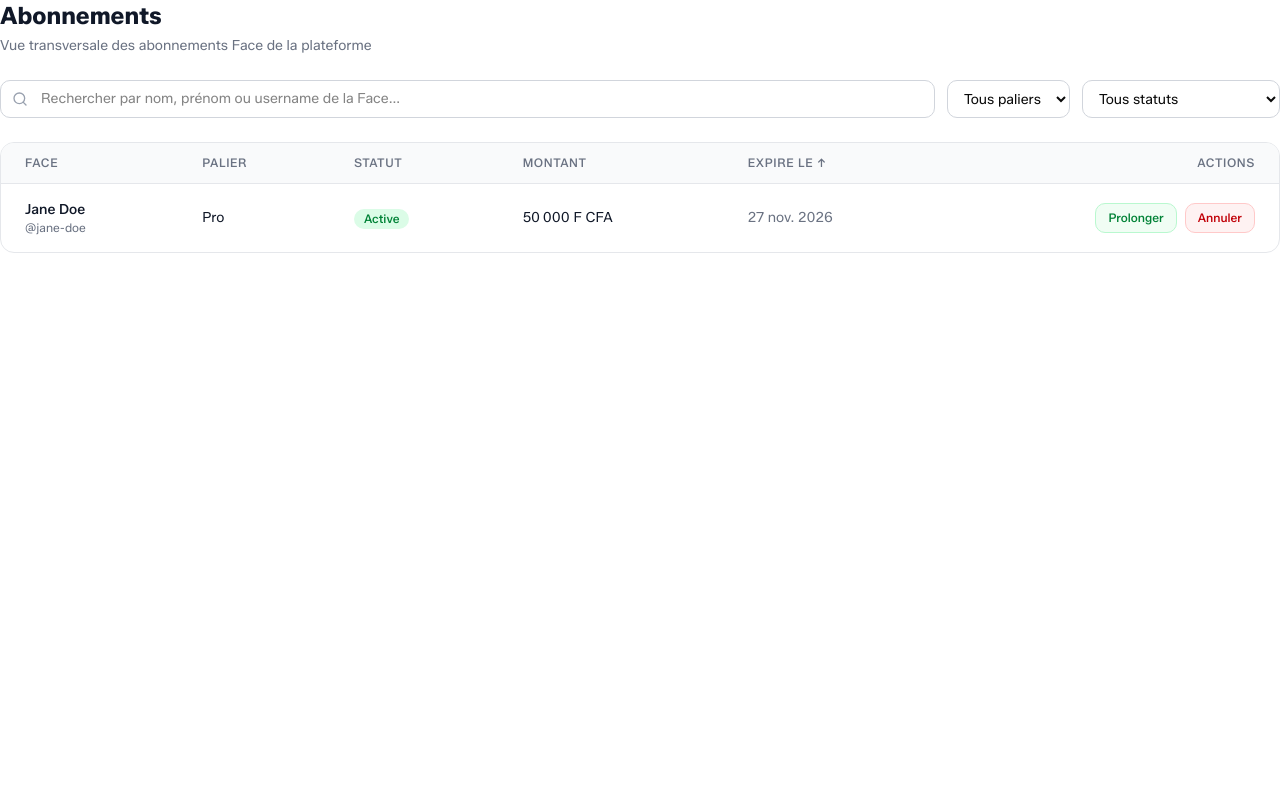
it: AdminSubscriptionsListPage › modale Prolonger : conflit 409 → message affiché, modale ouverte
This screenshot has width=1280, height=800.
Click the button with test id "extend-button" at (1136, 218), box [1095,203,1177,233]
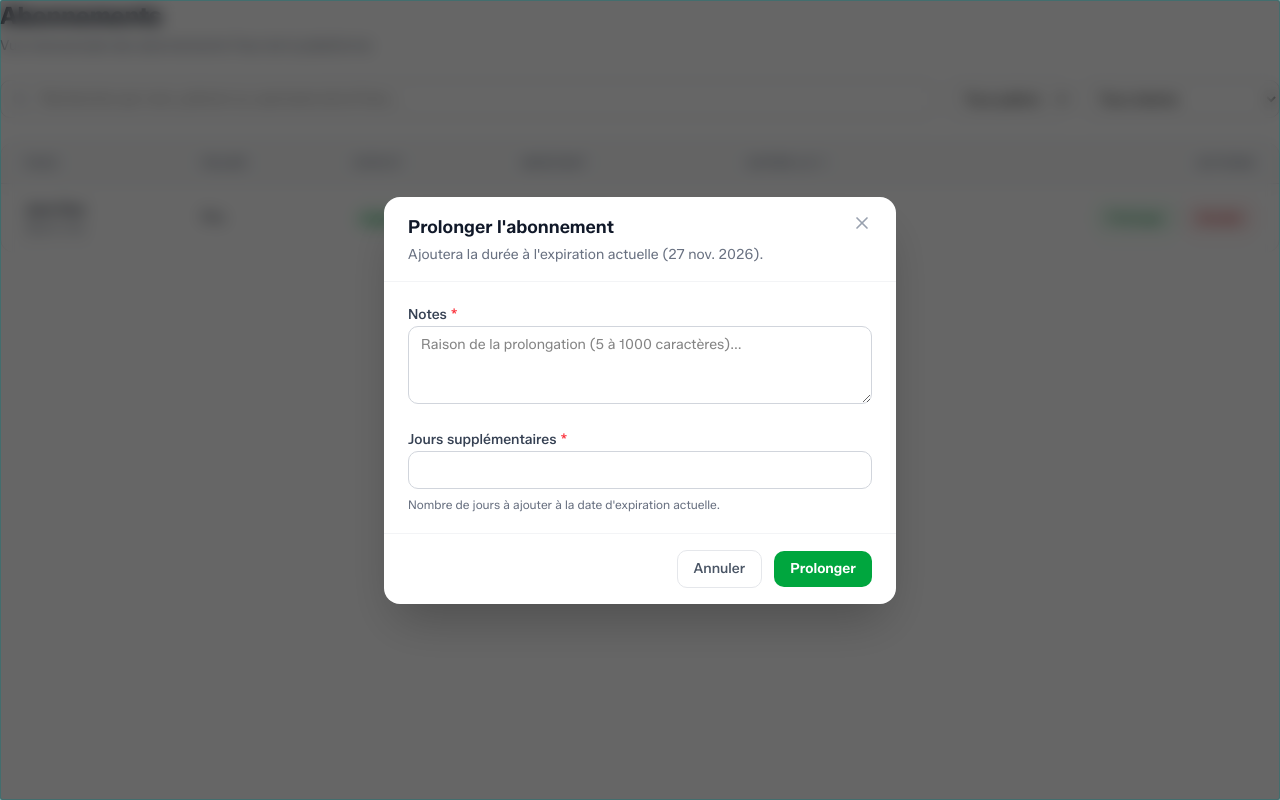
Type "Prolongation impossible" into the text box with test id "extend-notes" at (640, 364), box [408,326,872,404]
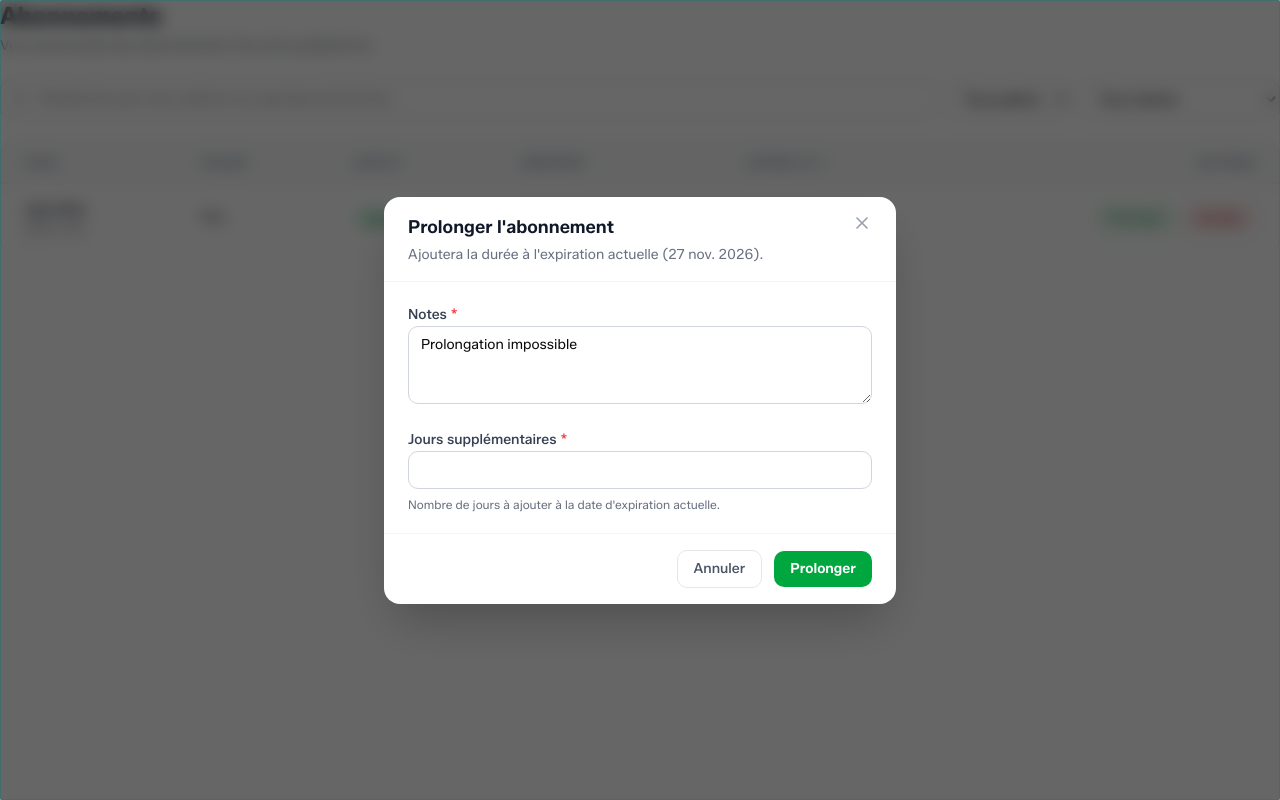
Type "30" into the number field with test id "extend-additional-days" at (640, 470), box [408,450,872,488]
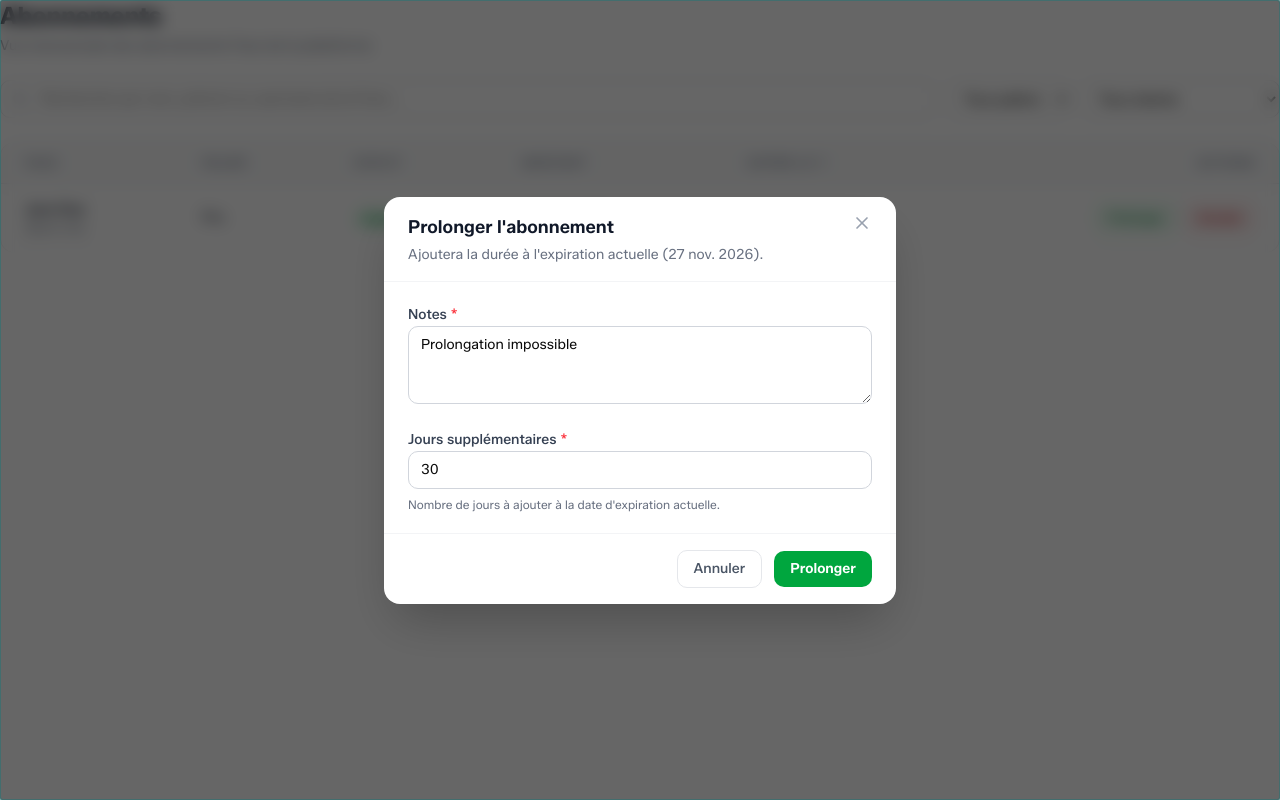
Click the button with test id "extend-submit" at (823, 568), box [774,550,872,586]
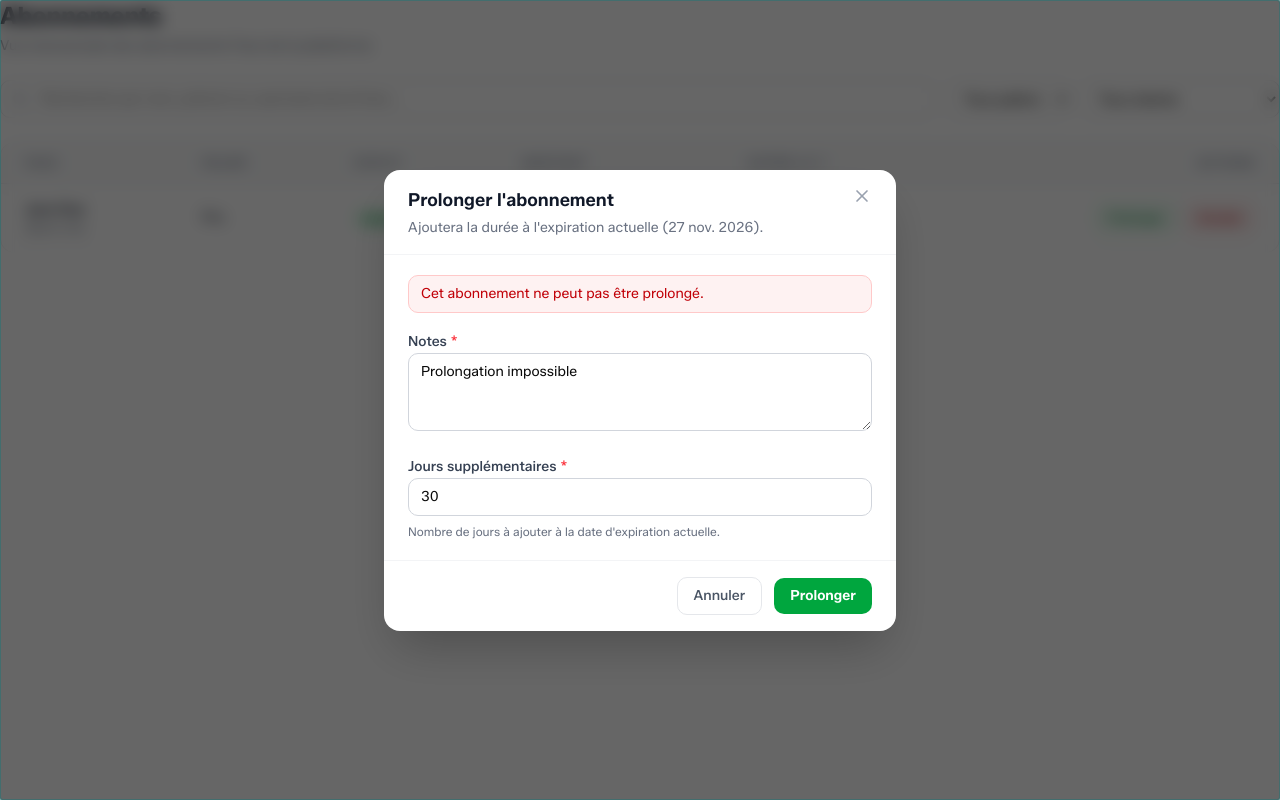
Now the dialog with test id "subscriptions-extend-modal" is shown
Now the text "Cet abonnement ne peut pas être prolongé." is shown, box [408,274,872,312]
Now the text with test id "subscriptions-extend-error" shows "ne peut pas être prolongé", box [421,284,704,302]
